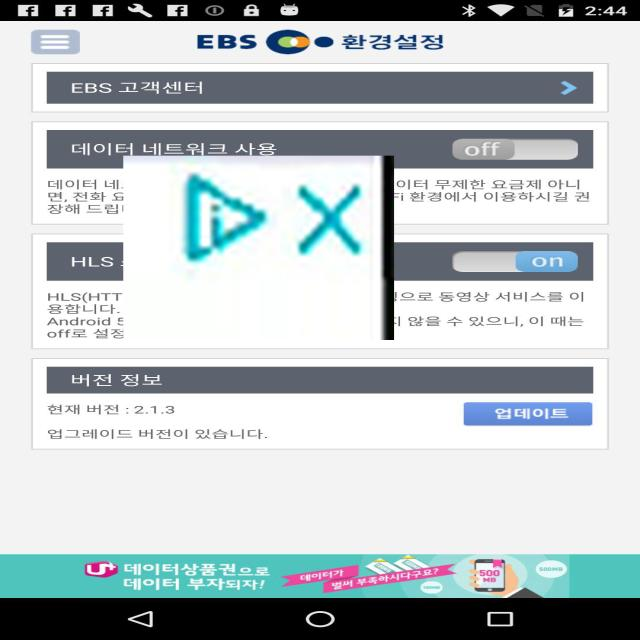sneaking: (123, 156, 394, 340)
